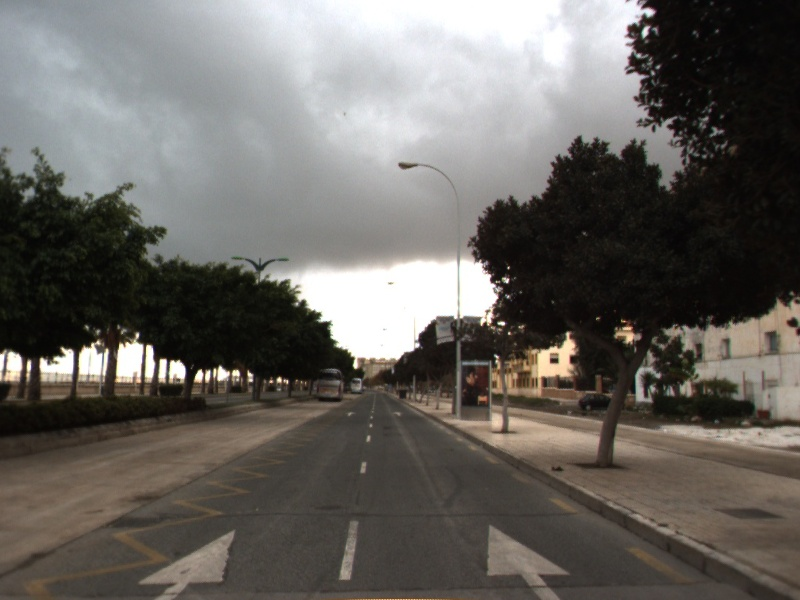STRAIGHT: (134, 525, 240, 600), (483, 520, 575, 600)
